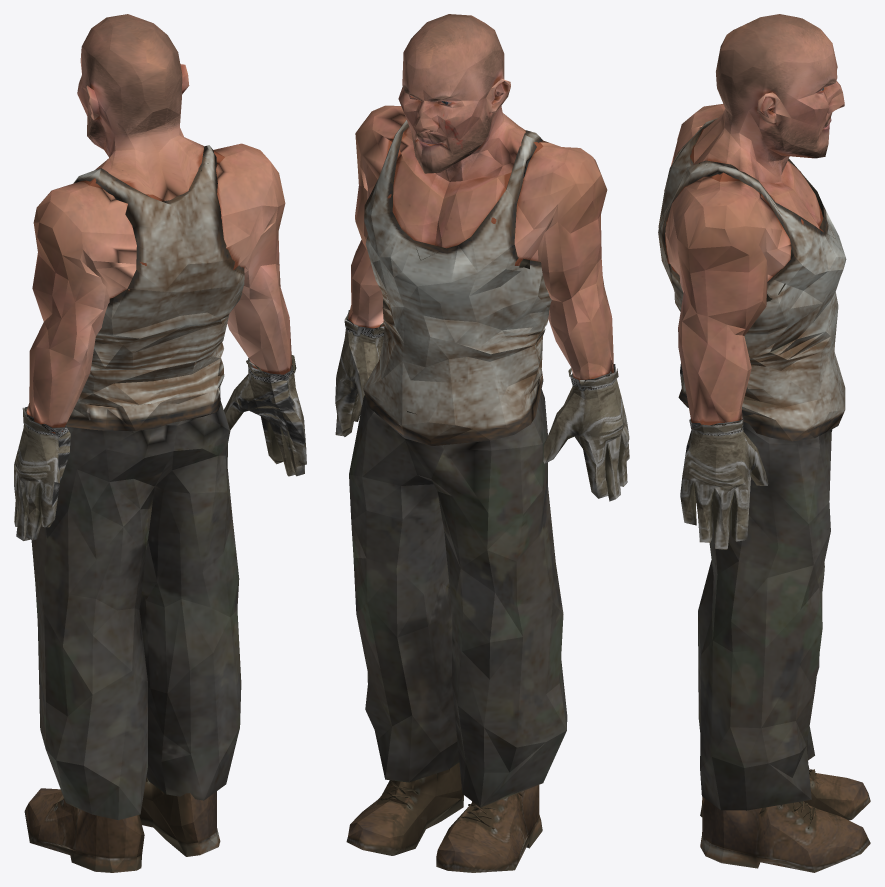
Rendered from worker.glb.
The picture shows the model from 3 angles, left to right: view 1: azimuth 30°, elevation 25°; view 2: azimuth 150°, elevation 25°; view 3: azimuth 270°, elevation 25°; orthographic projection.
Parts seen in each view (by area): view 1: CharacterVersion-A.obj; view 2: CharacterVersion-A.obj; view 3: CharacterVersion-A.obj.
Boxes of the visible parts, left/top/right/bottom form: CharacterVersion-A.obj: left=14, top=14, right=306, bottom=872; CharacterVersion-A.obj: left=335, top=14, right=629, bottom=872; CharacterVersion-A.obj: left=658, top=14, right=870, bottom=872.
Bounding box in the file's own units: 0.638 × 1.78 × 0.42.
2 materials, 2 textured.
